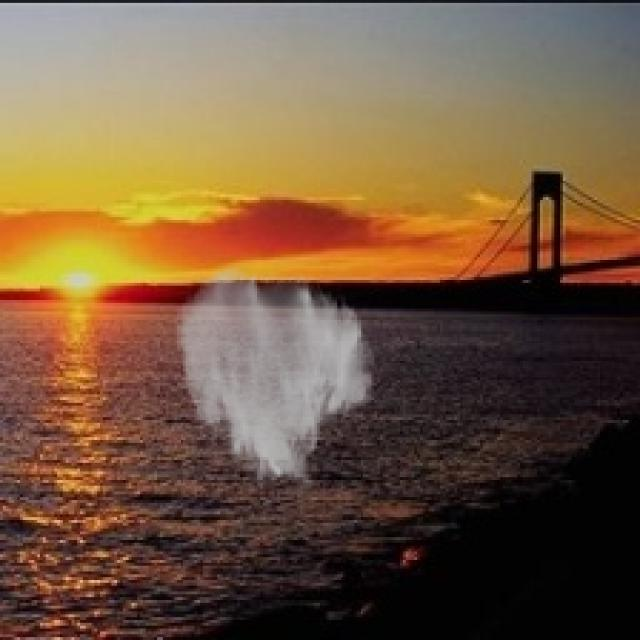Smoke: (174, 262, 377, 494)
